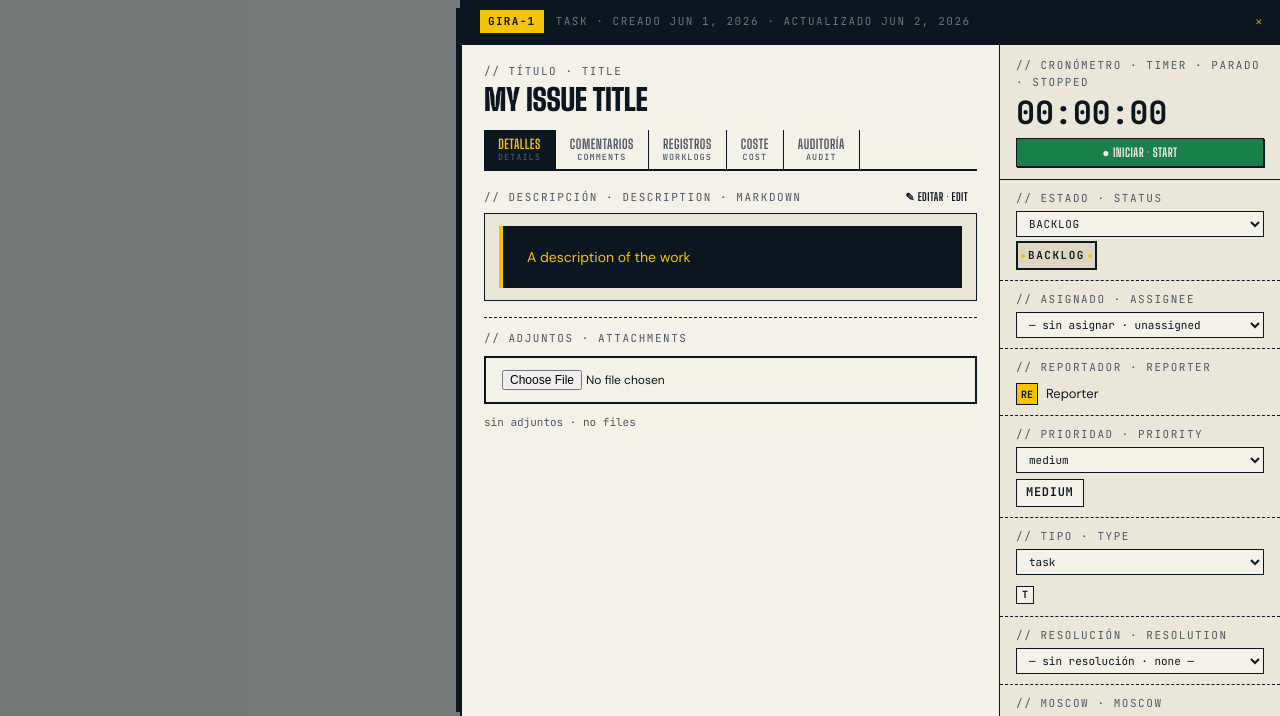
Test case: IssueDrawer › cancels an inline worklog edit
Expected: the heading "My issue title" is shown, [484, 81, 648, 117]
What coordinates should you click on to do the following:
click the text "Registros"
I would click on:
 (687, 144)
Its box is [663, 138, 712, 151].
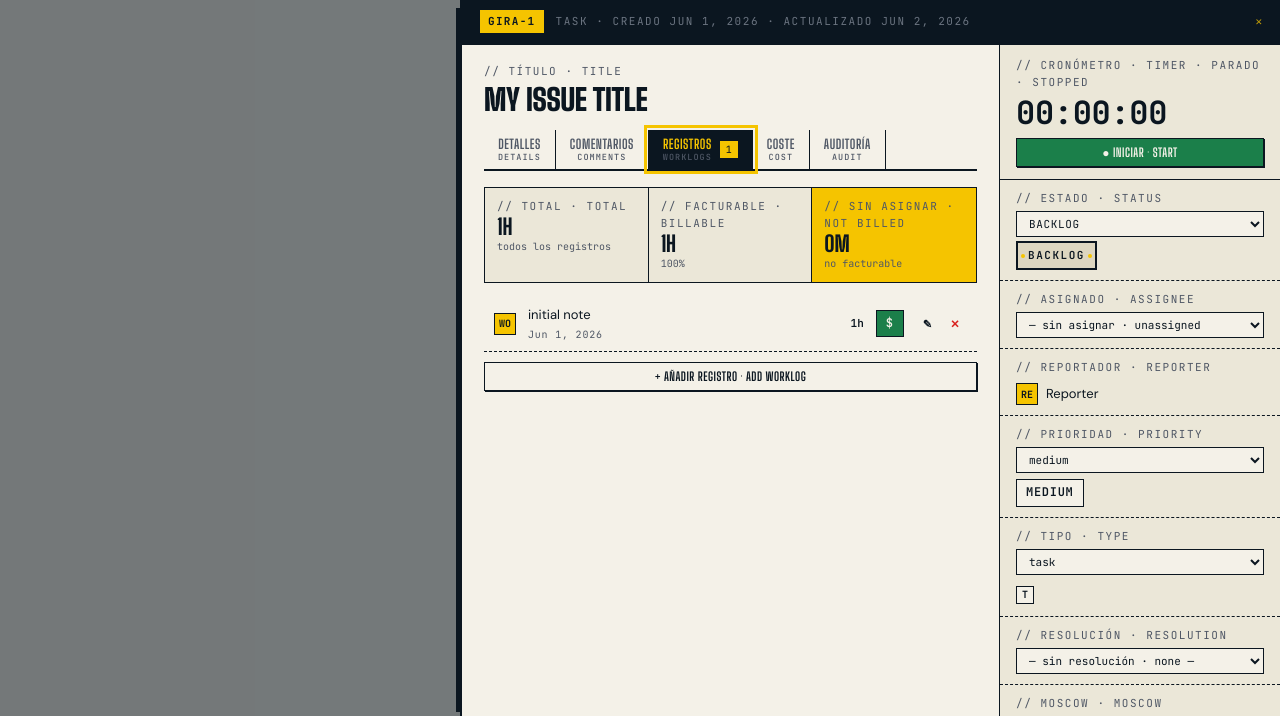
What coordinates should you click on to do the following:
click the button titled "Editar · Edit"
I would click on:
 (928, 324)
Its box is [916, 314, 939, 334].
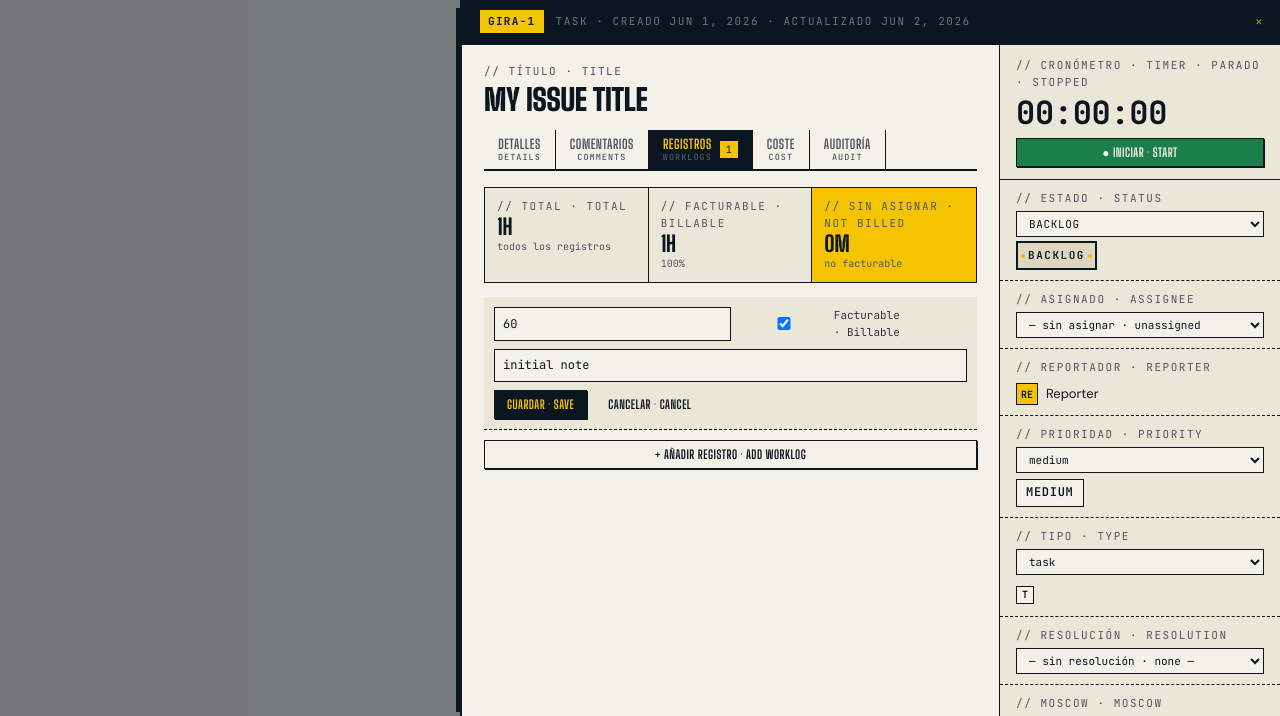
Result: the number field showing "60" is shown at [494, 307, 730, 341]
What coordinates should you click on to do the following:
click the button "Cancelar · Cancel"
I would click on:
 (650, 404)
Its box is [595, 390, 704, 419].
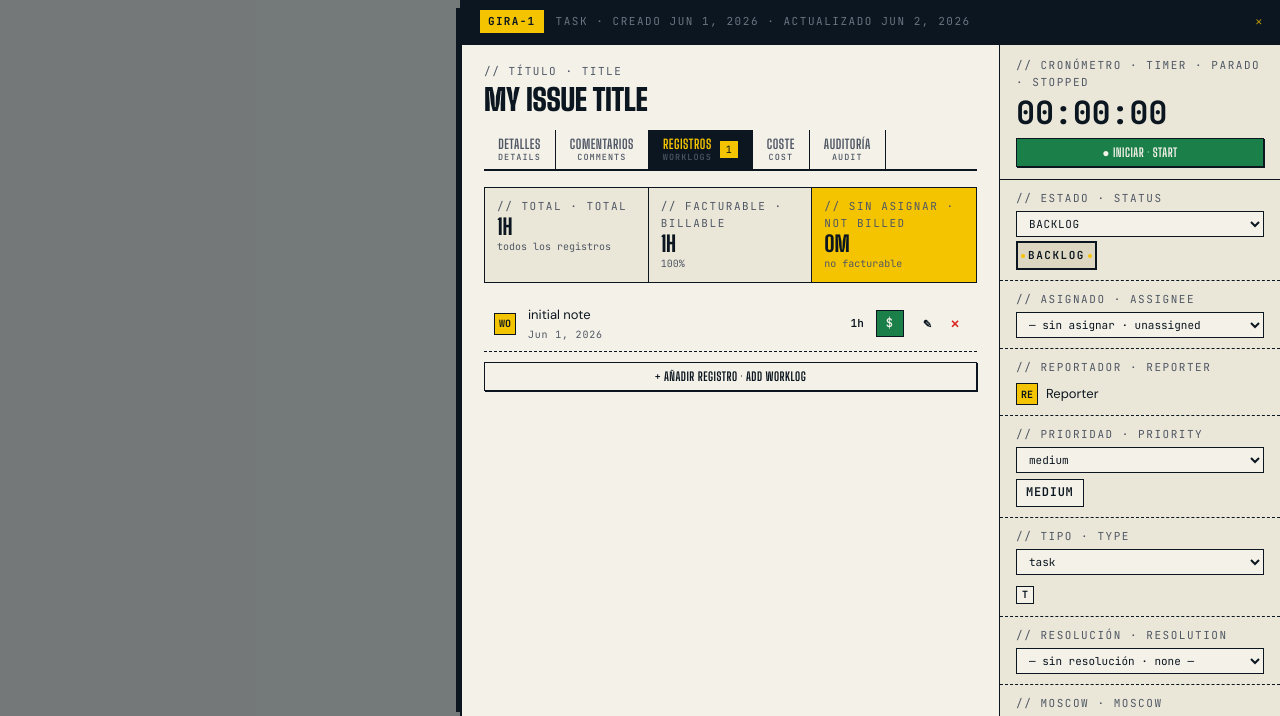
Expected: the field showing "60" is not shown
Result: the text "initial note" is shown at [528, 306, 591, 323]
